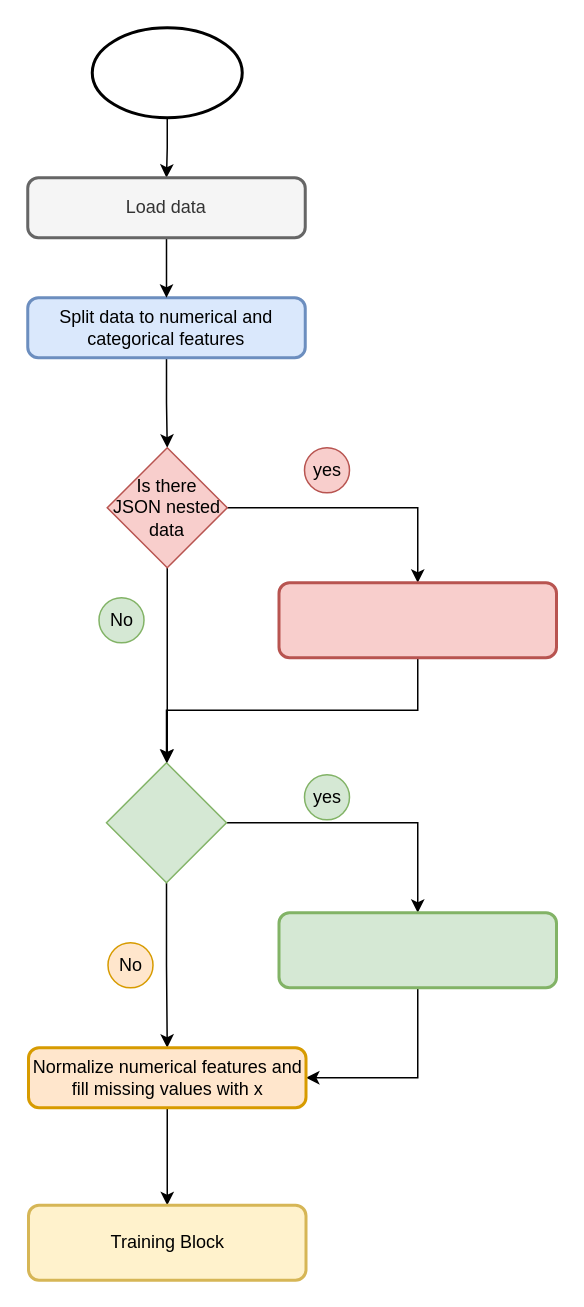
Image size: 584x1307. Some labels were removed from this diagram. The centre of each missing label's shape, as x and y in pixels:
Encode categorical features and fill missing values with a random number: the point at 417,949
Flattening JSON nested data: the point at 417,619
is there categorical features: the point at 165,822
Start: the point at 166,72
